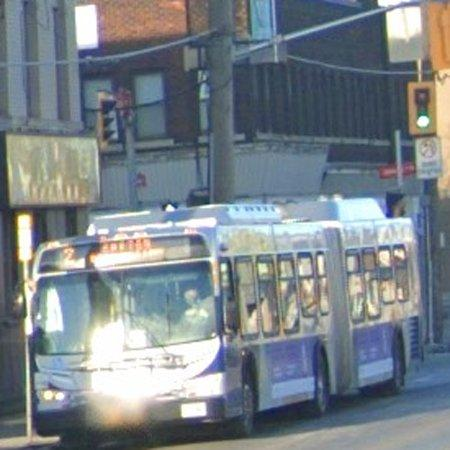buses: (28, 199, 422, 437)
